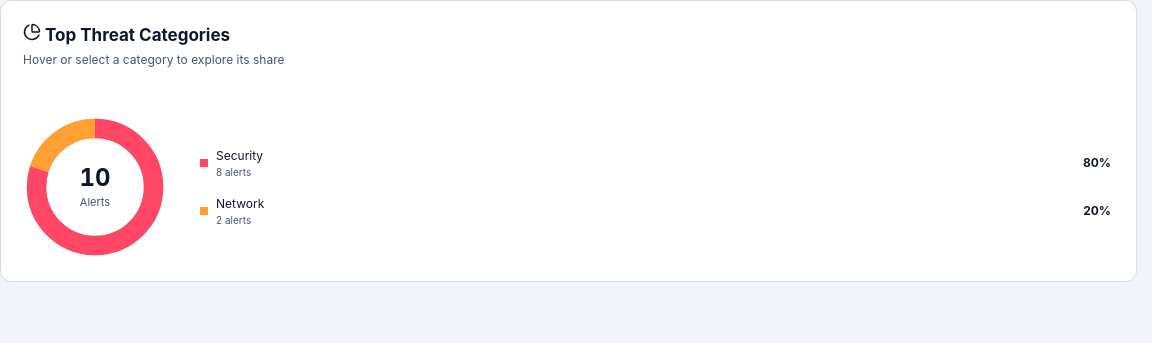
Test: selects categories, previews them on focus, and resets the selection
The width and height of the screenshot is (1152, 343).
Focus the button with aria-label "Network: 2 alerts, 20%" at (240, 203), box 191,187 -> 1120,235
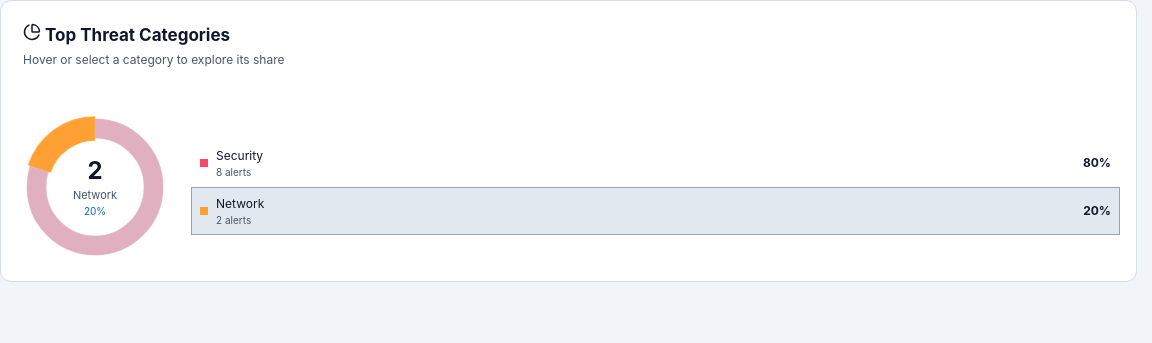
Expected: the text "2" is shown, 87,156 -> 103,185
Click the button with aria-label "Network: 2 alerts, 20%" at (240, 203), box 191,187 -> 1120,235
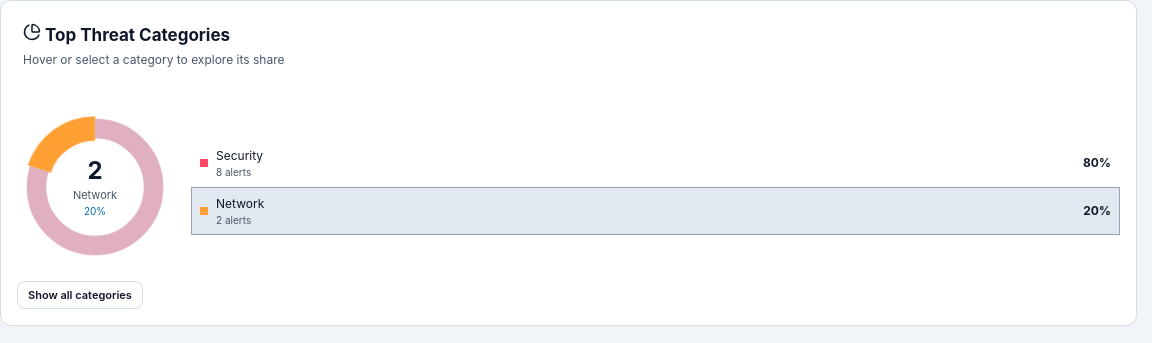
Leave the button with aria-label "Network: 2 alerts, 20%", box 191,187 -> 1120,235
Expected: the text "Network" is shown, 73,188 -> 117,202
Click the button "Show all categories" at (80, 295), box 17,281 -> 143,309
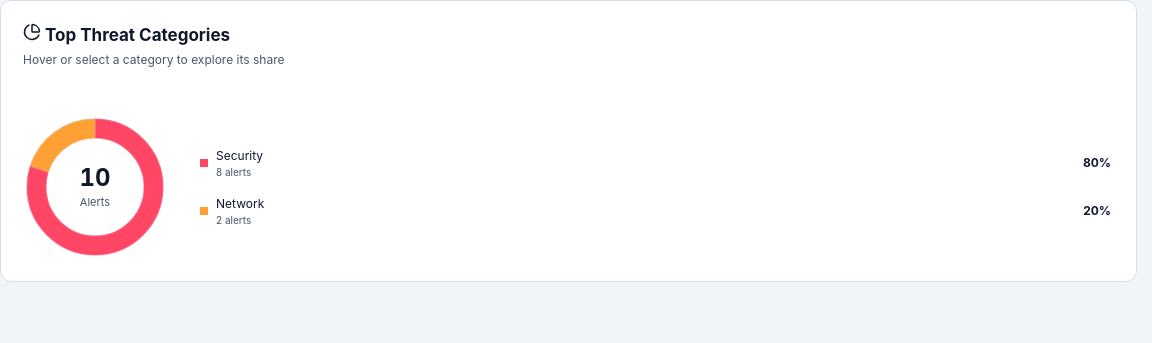
Expected: the text "10" is shown, 80,163 -> 110,192
